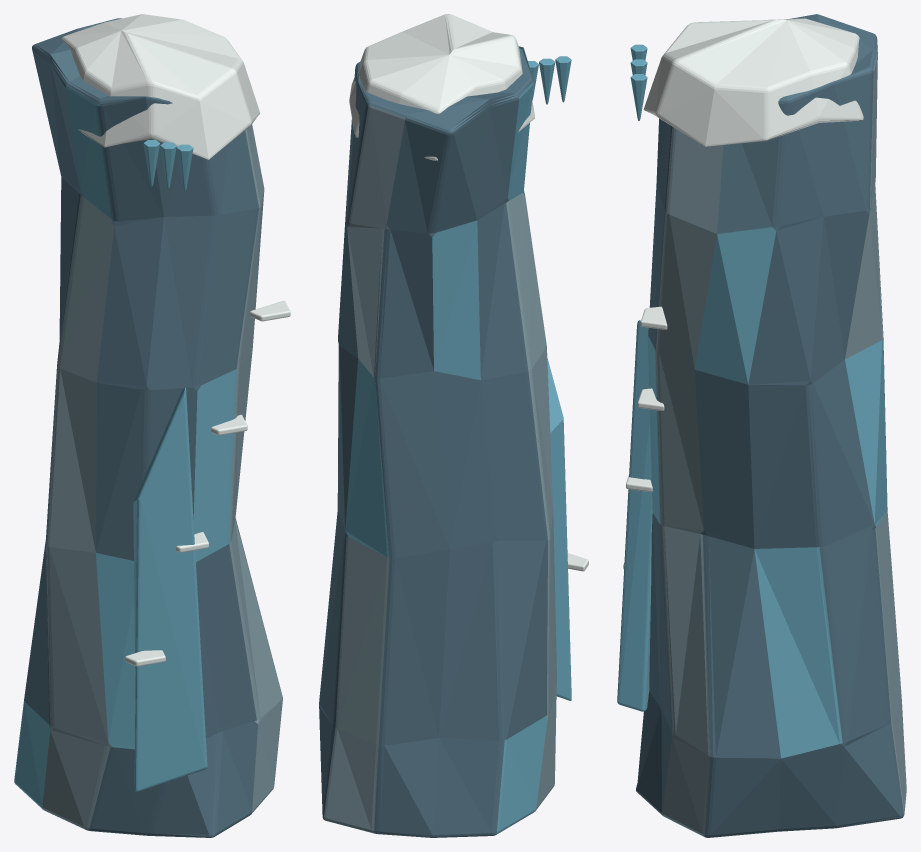
Rendered from CliffNeedle-v3.fbx.
3 renders of one model, left to right at view 1: azimuth 30°, elevation 25°; view 2: azimuth 150°, elevation 25°; view 3: azimuth 270°, elevation 25°, orthographic. The views are drawn at different scales.
Parts seen in each view (by area): view 1: GFC2_CliffNeedle_Rock, GFC2_CliffNeedle_IceFracture, GFC2_CliffNeedle_SnowCap, GFC2_CliffNeedle; view 2: GFC2_CliffNeedle_Rock, GFC2_CliffNeedle_SnowCap, GFC2_CliffNeedle_IceFracture, GFC2_CliffNeedle; view 3: GFC2_CliffNeedle_Rock, GFC2_CliffNeedle_SnowCap, GFC2_CliffNeedle_IceFracture, GFC2_CliffNeedle.
Part boxes in pixels (<box>): GFC2_CliffNeedle_Rock: <box>14,18,282,837</box>; GFC2_CliffNeedle_IceFracture: <box>133,388,207,791</box>; GFC2_CliffNeedle_SnowCap: <box>61,14,260,159</box>; GFC2_CliffNeedle: <box>125,140,290,666</box>; GFC2_CliffNeedle_Rock: <box>319,46,556,837</box>; GFC2_CliffNeedle_SnowCap: <box>349,14,534,160</box>; GFC2_CliffNeedle_IceFracture: <box>547,358,571,700</box>; GFC2_CliffNeedle: <box>528,56,588,571</box>; GFC2_CliffNeedle_Rock: <box>636,14,906,837</box>; GFC2_CliffNeedle_SnowCap: <box>643,18,863,146</box>; GFC2_CliffNeedle_IceFracture: <box>617,320,652,711</box>; GFC2_CliffNeedle: <box>623,44,667,568</box>.
Size of the model in its own units: 2.81 by 9.56 by 3.28.
